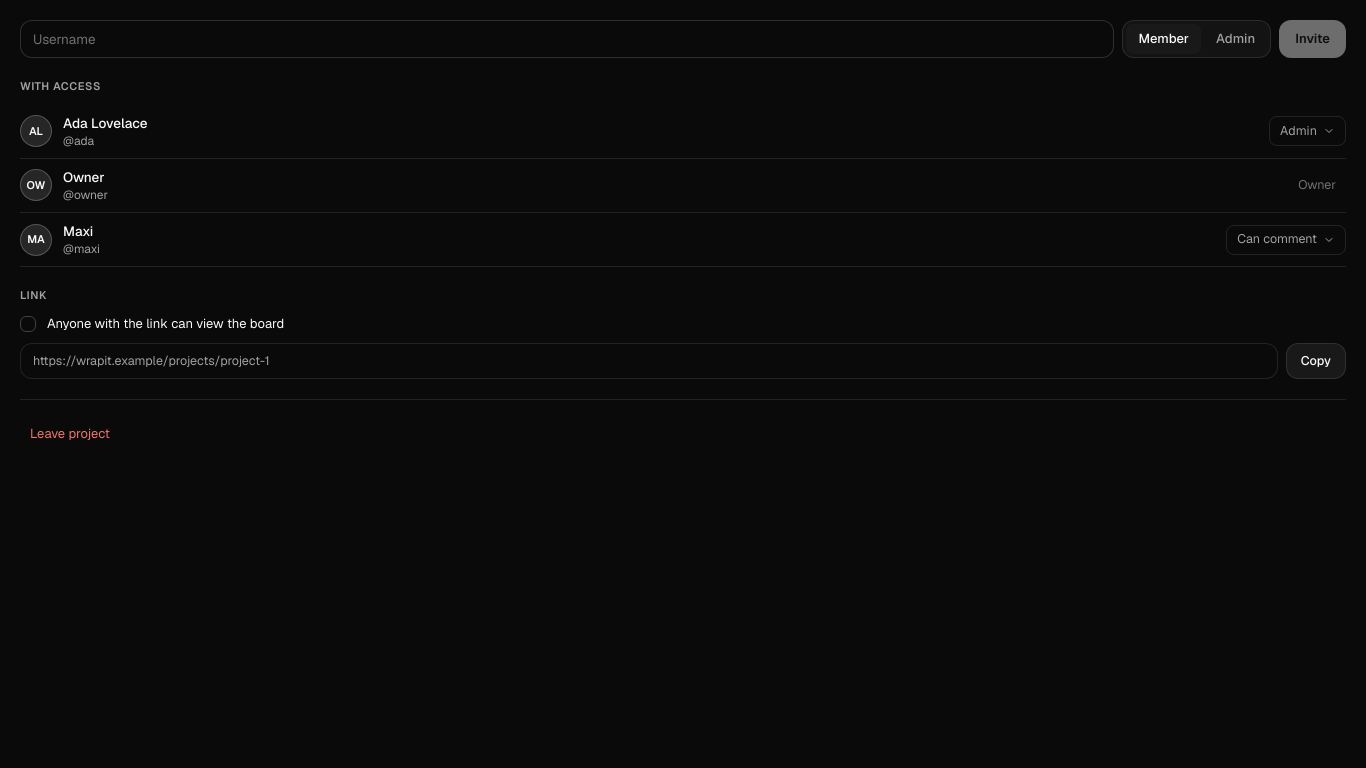
Test: ShareModalBody › stops administering the modal after a confirmed self-demote
This screenshot has width=1366, height=768.
Step 1. Click the button with aria-label "Change permission" → point(1308, 131), box left=1269, top=116, right=1346, bottom=146
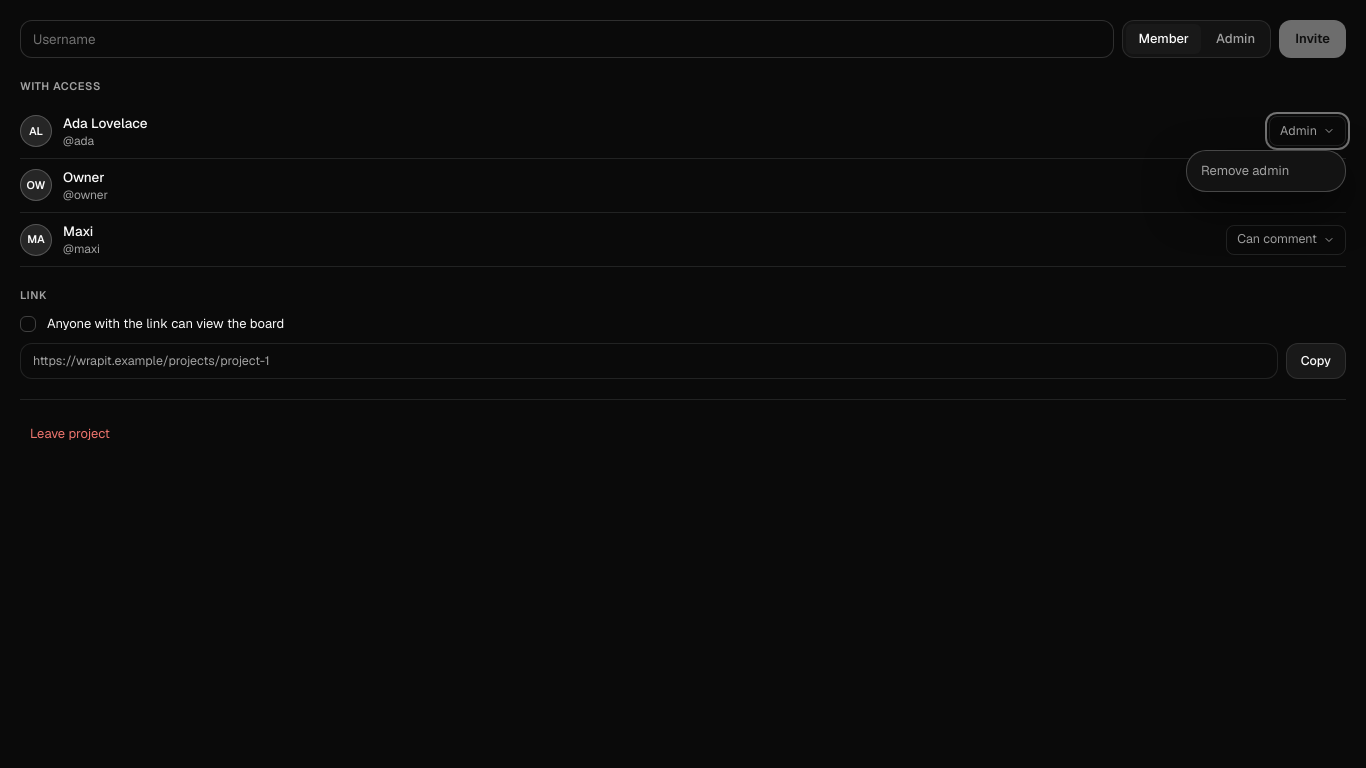
Step 2. Click the menu item "Remove admin" → point(1266, 171), box left=1191, top=155, right=1341, bottom=187
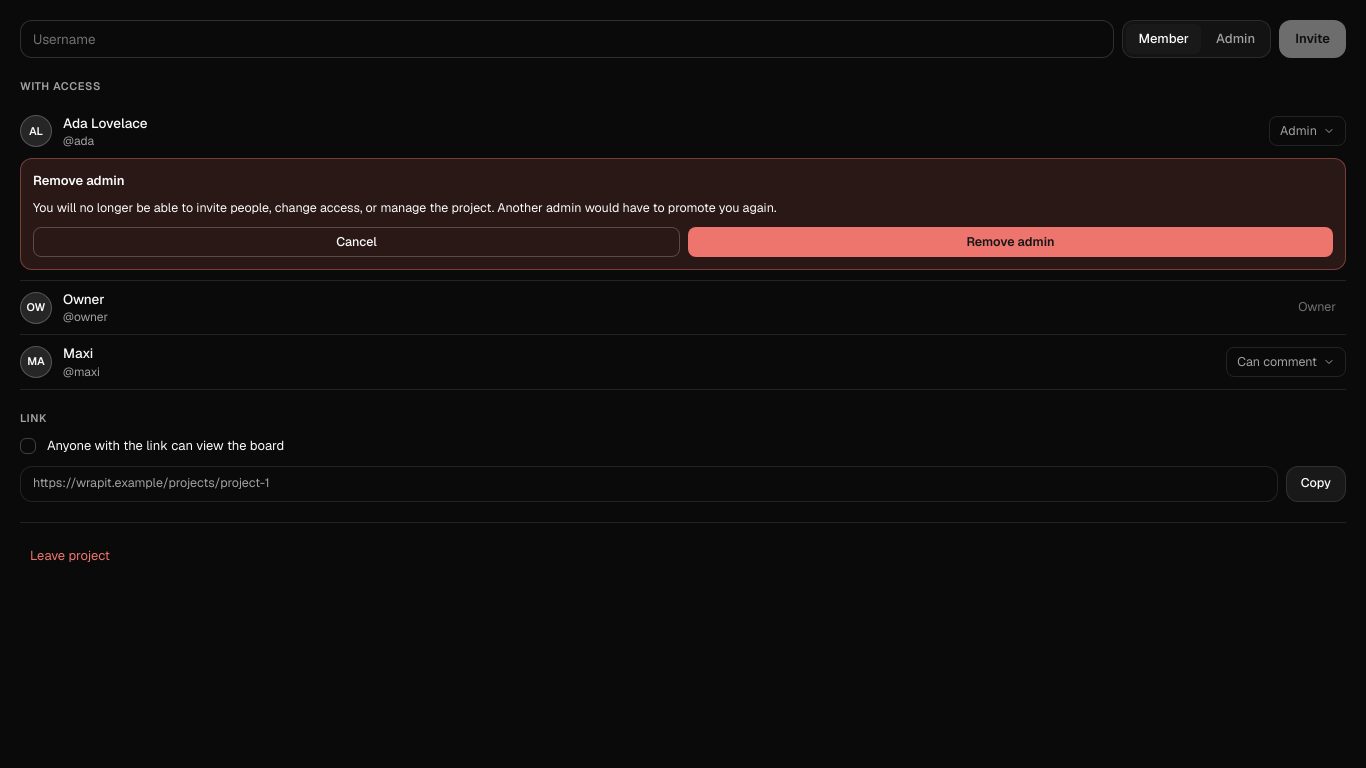
Step 3. Click the button "Remove admin" → point(1010, 242), box left=688, top=227, right=1333, bottom=257
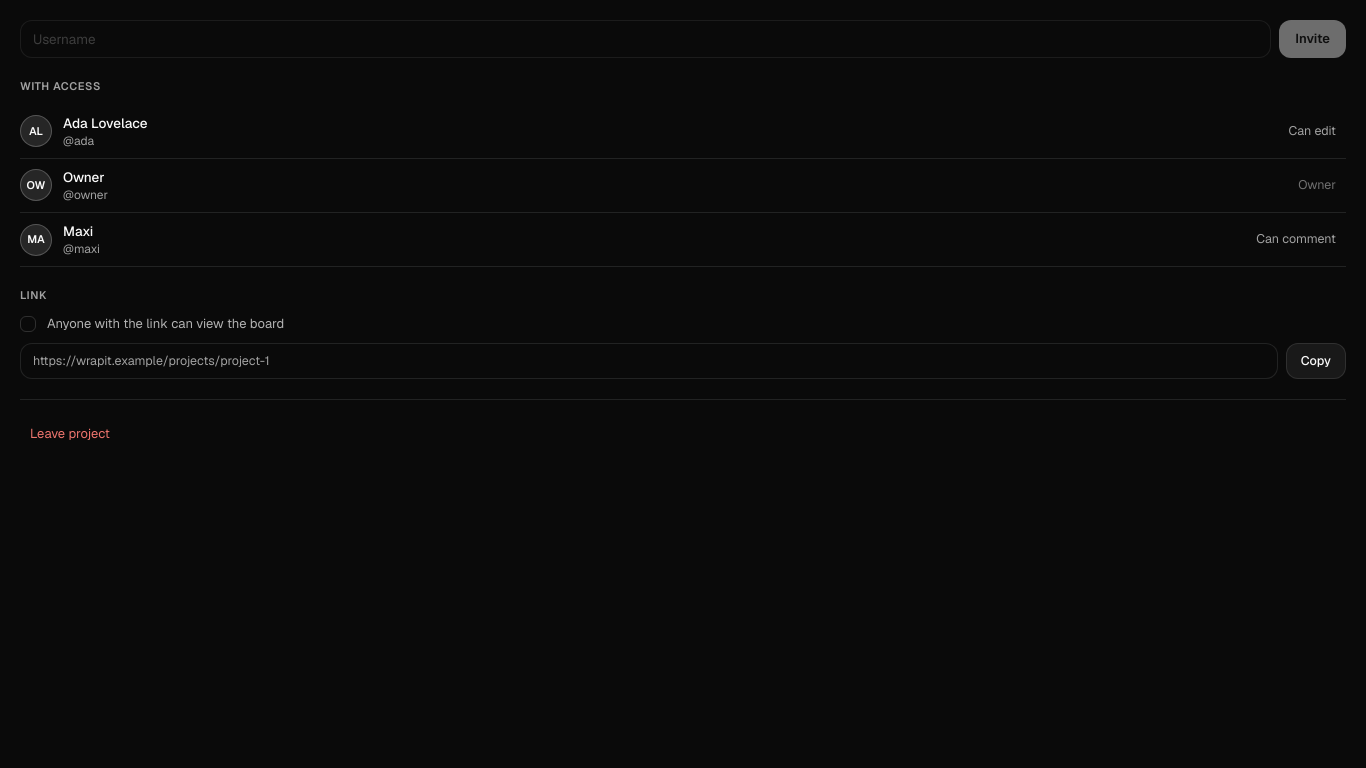
Check: the button "Invite" is disabled, box left=1279, top=20, right=1346, bottom=58
Check: the field labelled "Username" is disabled, box left=20, top=20, right=1271, bottom=58
